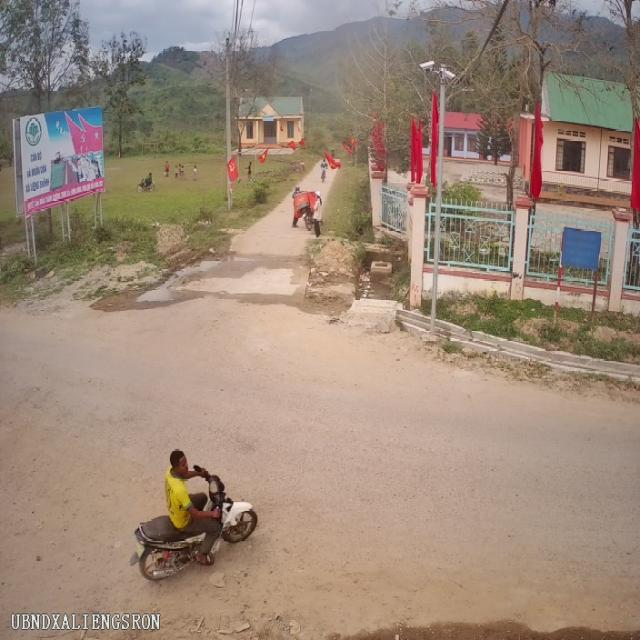no_helmet: (169, 446, 198, 482)
